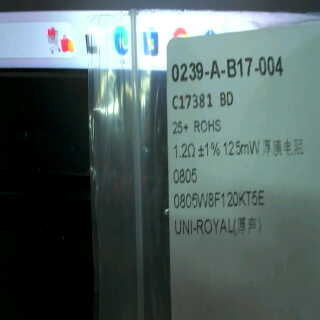1.2R: (169, 141, 199, 185)
